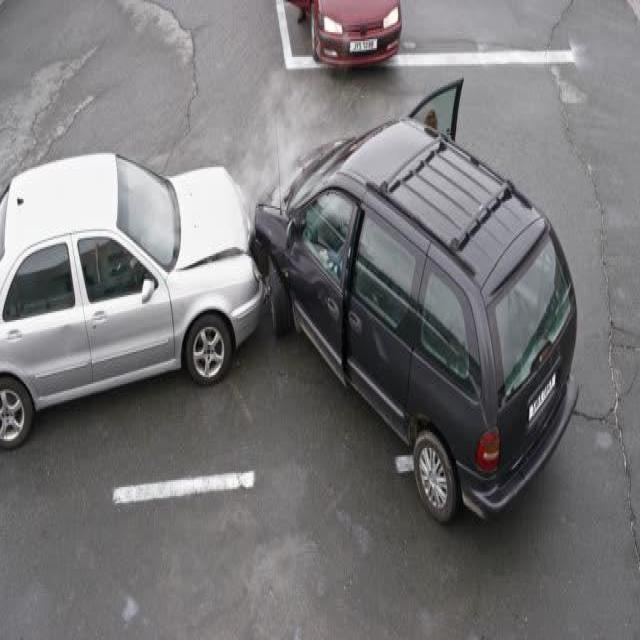multiple_accident: (94, 120, 479, 404)
